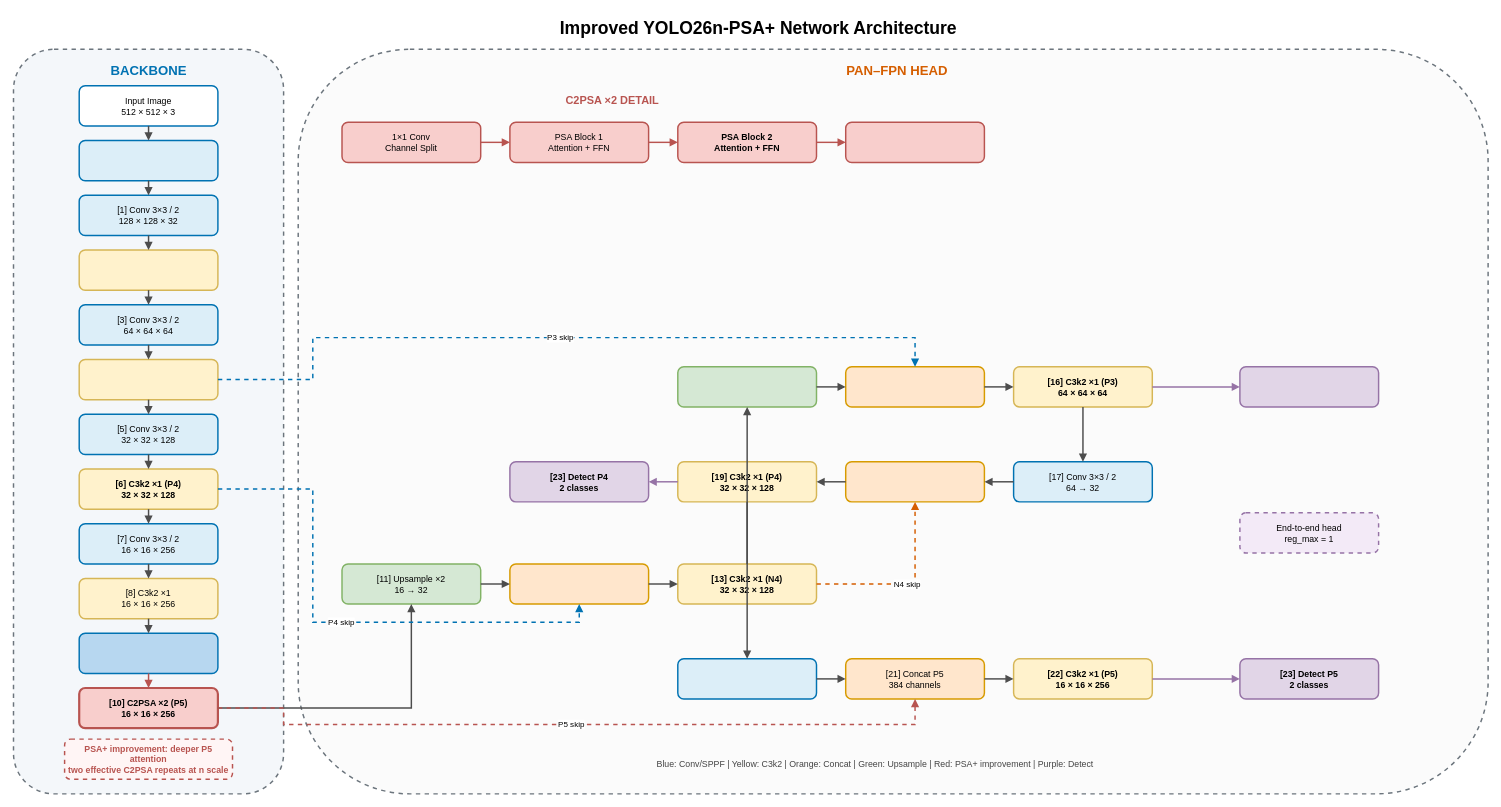
Some shapes in this 1501 by 807 pixel diagram are drawn without their labels. Each missing label, with the centre of its shape:
"[0] Conv 3×3 / 2 256 × 256 × 16" belongs at [148,160].
"[12] Concat P4 384 channels" belongs at [579,583].
"[14] Upsample ×2 32 → 64" belongs at [747,386].
"[15] Concat P3 256 channels" belongs at [915,386].
"[18] Concat N4 192 channels" belongs at [915,481].
"[20] Conv 3×3 / 2 32 → 16" belongs at [747,678].
"[23] Detect P3 2 classes" belongs at [1309,386].
"[2] C3k2 ×1 128 × 128 × 64" belongs at [148,270].
"[4] C3k2 ×1 (P3) 64 × 64 × 128" belongs at [148,379].
"[9] SPPF 16 × 16 × 256" belongs at [148,653].
"Concat + 1×1 Conv P5 Output" belongs at [915,142].
